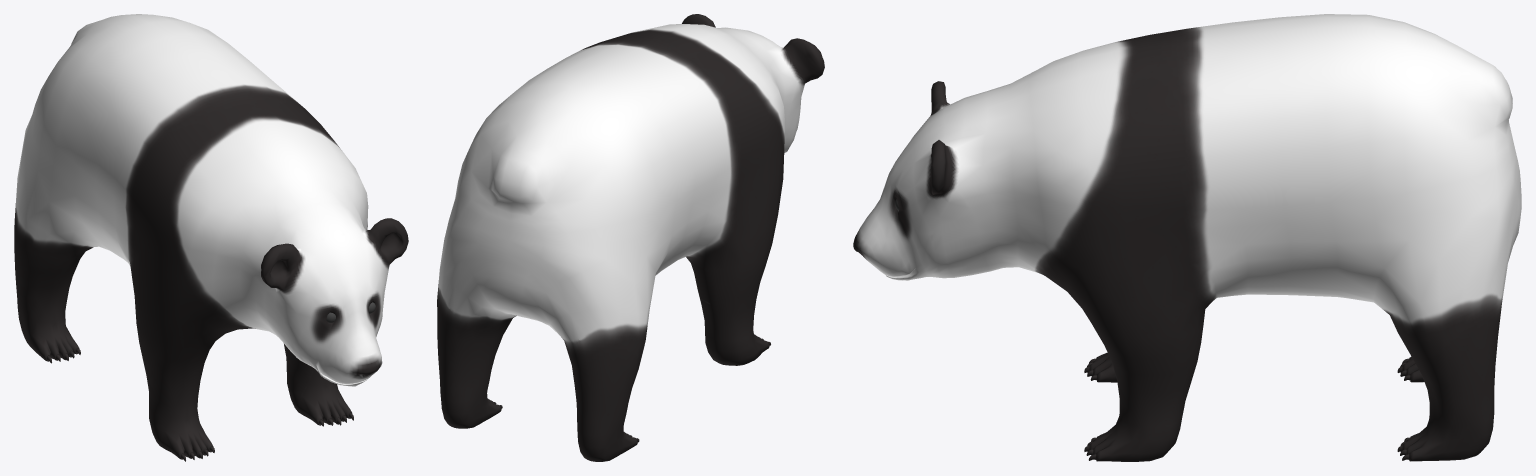
Rendered from panda.glb.
3 renders of one model, left to right at view 1: azimuth 30°, elevation 25°; view 2: azimuth 150°, elevation 25°; view 3: azimuth 270°, elevation 25°, orthographic. The views are drawn at different scales.
Visible parts, largest first — view 1: Object_2; view 2: Object_2; view 3: Object_2.
Boxes of the visible parts, x1,y1,x2,y2 form: Object_2: (14, 14, 408, 461); Object_2: (437, 14, 824, 461); Object_2: (853, 14, 1521, 461).
Size of the model in its own units: 3.12 by 4.85 by 7.59.
2 materials, 1 textured.
